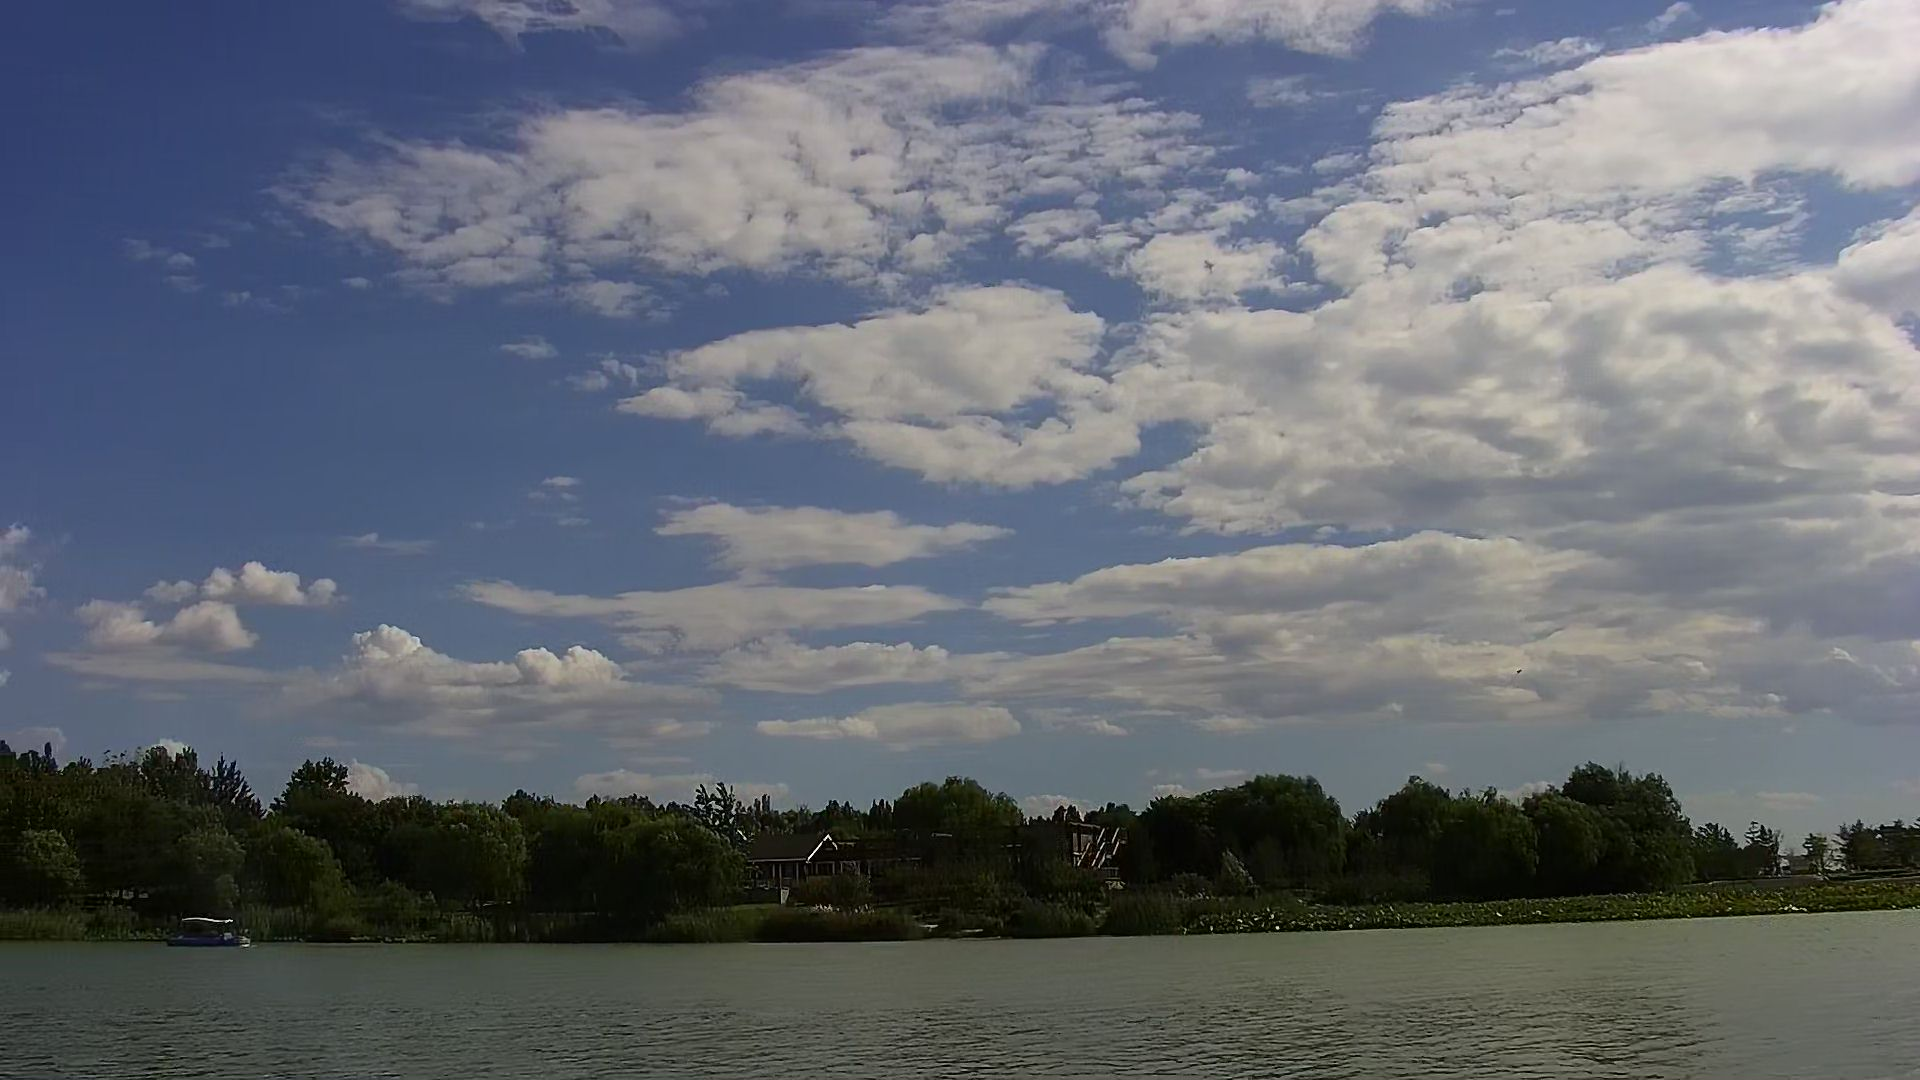boat: (164, 909, 262, 953)
